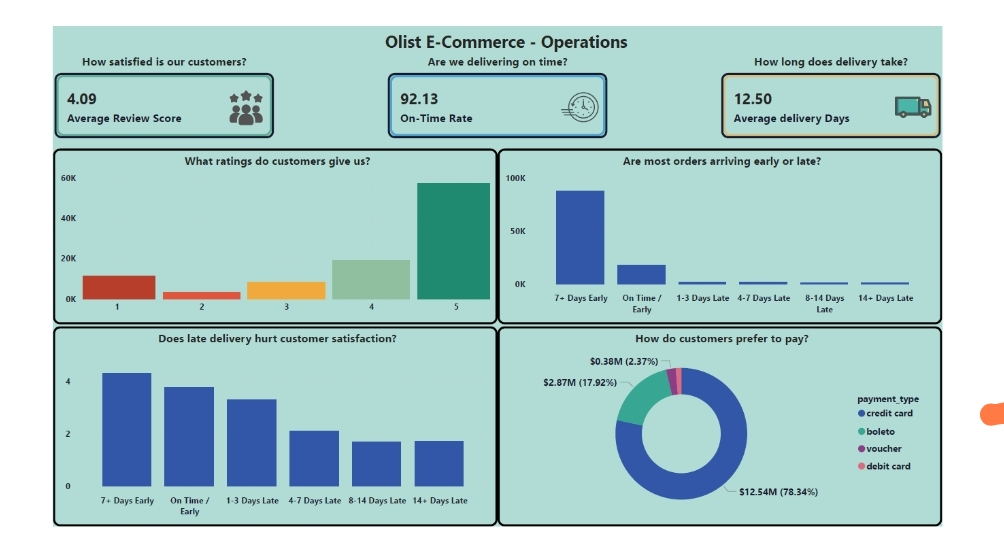

What the dashboard file says about the page in this screenshot:
{"tool":"powerbi","page":{"name":"operations","canvas":[1280,720],"ordinal":1},"visuals":[{"type":"clusteredColumnChart","title":"What ratings do customers give us?","fields":{"Y":["CountNonNull(olist_order_reviews_dataset.order_id)"],"Category":["olist_order_reviews_dataset.review_score"]},"box":[0,176,640,253],"z":0},{"type":"clusteredColumnChart","title":"Are most orders arriving early or late?","fields":{"Category":["olist_orders_dataset.Delivery Delay Bucket"],"Y":["CountNonNull(olist_order_items_dataset.order_id)"]},"box":[640,176,640,253],"z":1000},{"type":"clusteredColumnChart","title":"Does late delivery hurt customer satisfaction?","fields":{"Y":["olist_geolocation_dataset.Average Review Score"],"Category":["olist_orders_dataset.Delivery Delay Bucket"]},"box":[0,432,640,288],"z":2000},{"type":"donutChart","title":"How do customers prefer to pay?","fields":{"Category":["olist_order_payments_dataset.payment_type"],"Y":["Sum(olist_order_payments_dataset.payment_value)"]},"box":[640,432,640,288],"z":3000},{"type":"cardVisual","title":"How satisfied is our customers?","fields":{"Data":["olist_geolocation_dataset.Average Review Score"]},"box":[0,35,320,128],"z":4000},{"type":"cardVisual","title":"Are we delivering on time?","fields":{"Data":["olist_customers_dataset.On-Time Rate"]},"box":[480,35,320,128],"z":5000},{"type":"cardVisual","title":"How long does delivery take?","fields":{"Data":["olist_customers_dataset.Average delivery Days"]},"box":[960,35,320,128],"z":6000},{"type":"textbox","box":[464,0,377,46],"z":7000}]}

Visuals, with their boxes in screenshot pixels (x1, y1, x2, y2), scaled from the page's 1280x720 canvas onto the 1004x558 screenshot:
"What ratings do customers give us?" clusteredColumnChart: box=[0, 136, 502, 332]
"Are most orders arriving early or late?" clusteredColumnChart: box=[502, 136, 1003, 332]
"Does late delivery hurt customer satisfaction?" clusteredColumnChart: box=[0, 335, 502, 557]
"How do customers prefer to pay?" donutChart: box=[502, 335, 1003, 557]
"How satisfied is our customers?" cardVisual: box=[0, 27, 251, 126]
"Are we delivering on time?" cardVisual: box=[376, 27, 628, 126]
"How long does delivery take?" cardVisual: box=[753, 27, 1003, 126]
textbox: box=[364, 0, 660, 36]
